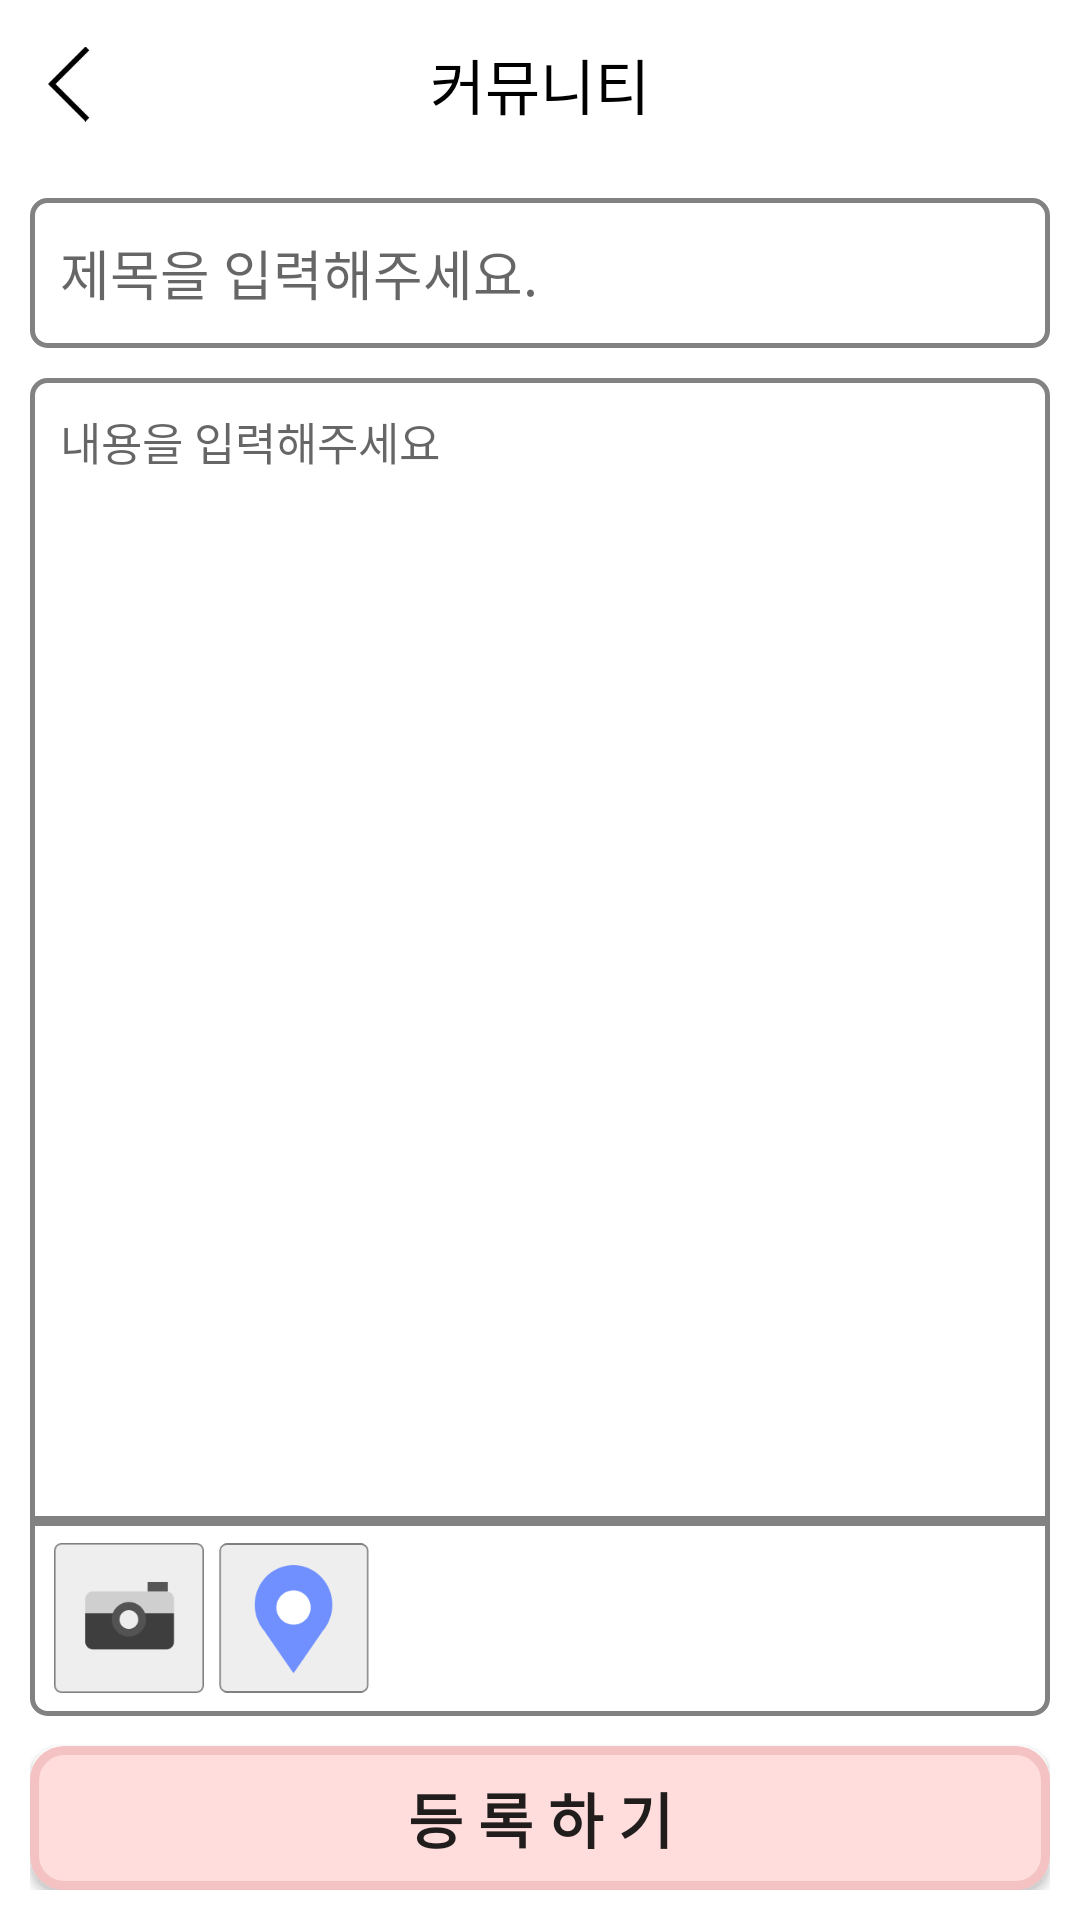

Where icons sit on this 1080 x 1920 app screen, as bbox(x1, y1, x2, y2):
back: bbox(48, 47, 89, 122)
map: bbox(219, 1543, 369, 1693)
